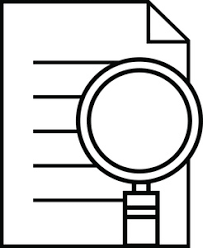searchIcon: (76, 55, 203, 247)
